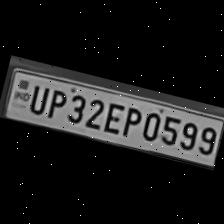0: (138, 106, 164, 142)
2: (81, 92, 107, 129)
3: (61, 88, 88, 124)
5: (156, 108, 182, 146)
9: (193, 119, 220, 156), (175, 115, 201, 151)
E: (100, 96, 126, 134)
P: (42, 83, 68, 119), (119, 101, 144, 137)
U: (25, 80, 50, 115)
